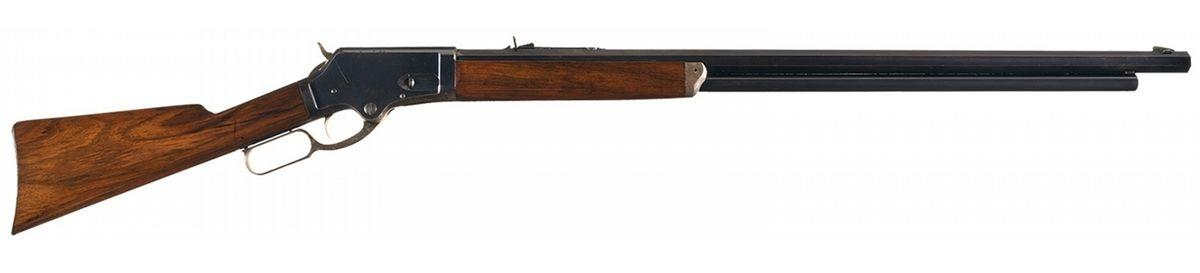blood: (0, 2, 1190, 273)
